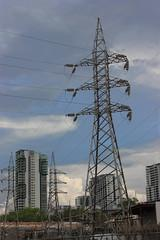power_tower: (65, 18, 137, 224), (0, 147, 25, 238), (42, 149, 67, 235)
